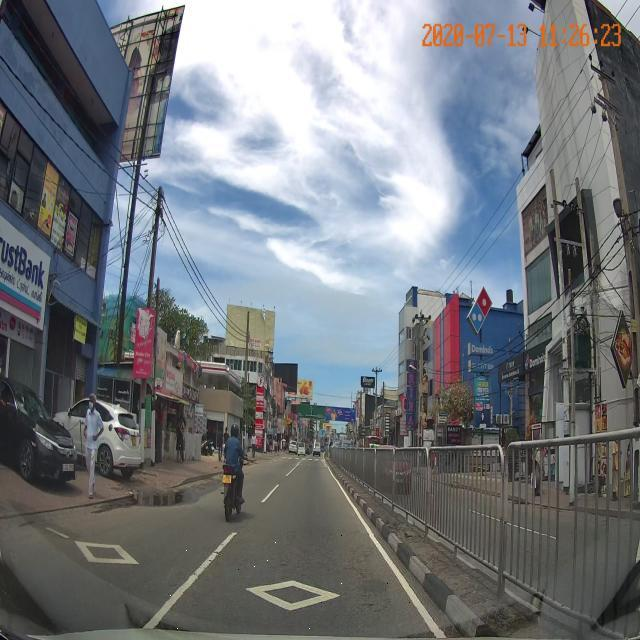diamond: (163, 536, 440, 630)
